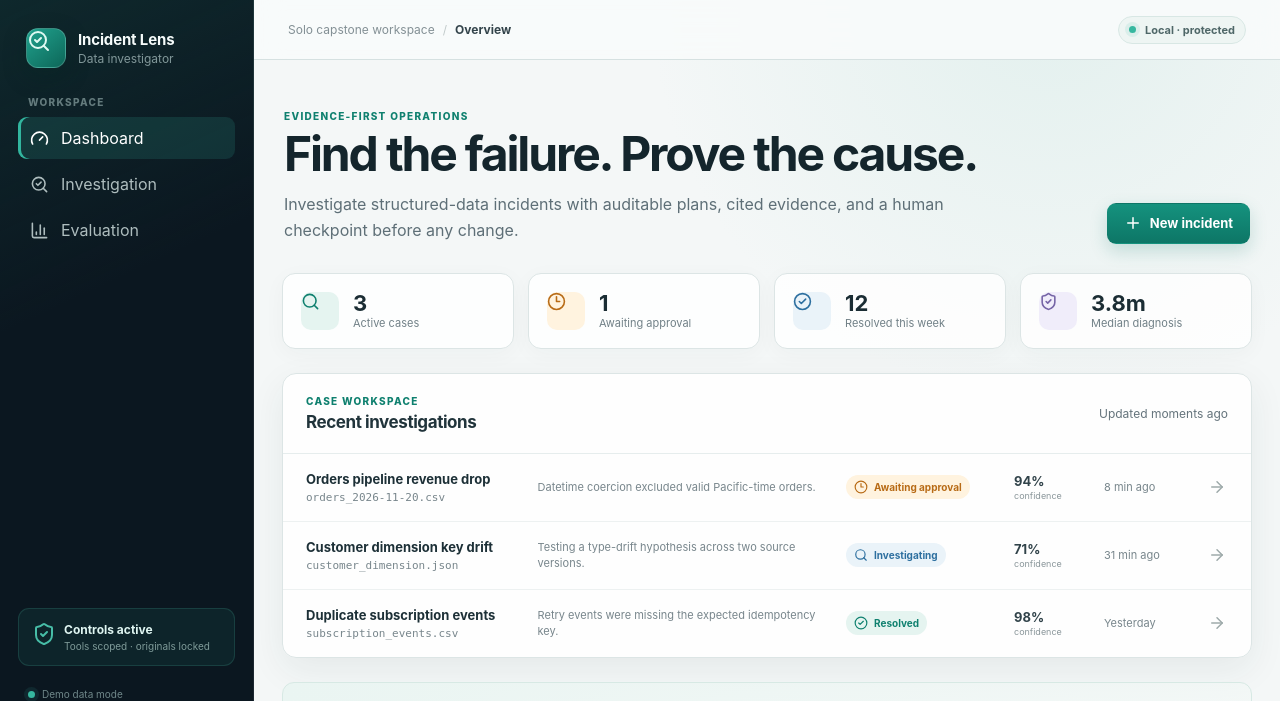
Data Incident Investigator UI › shows plan revision evidence and records an approval decision
Click the button "Investigation" at {"x": 126, "y": 184}, box [18,163,235,205]
(page scrolled)
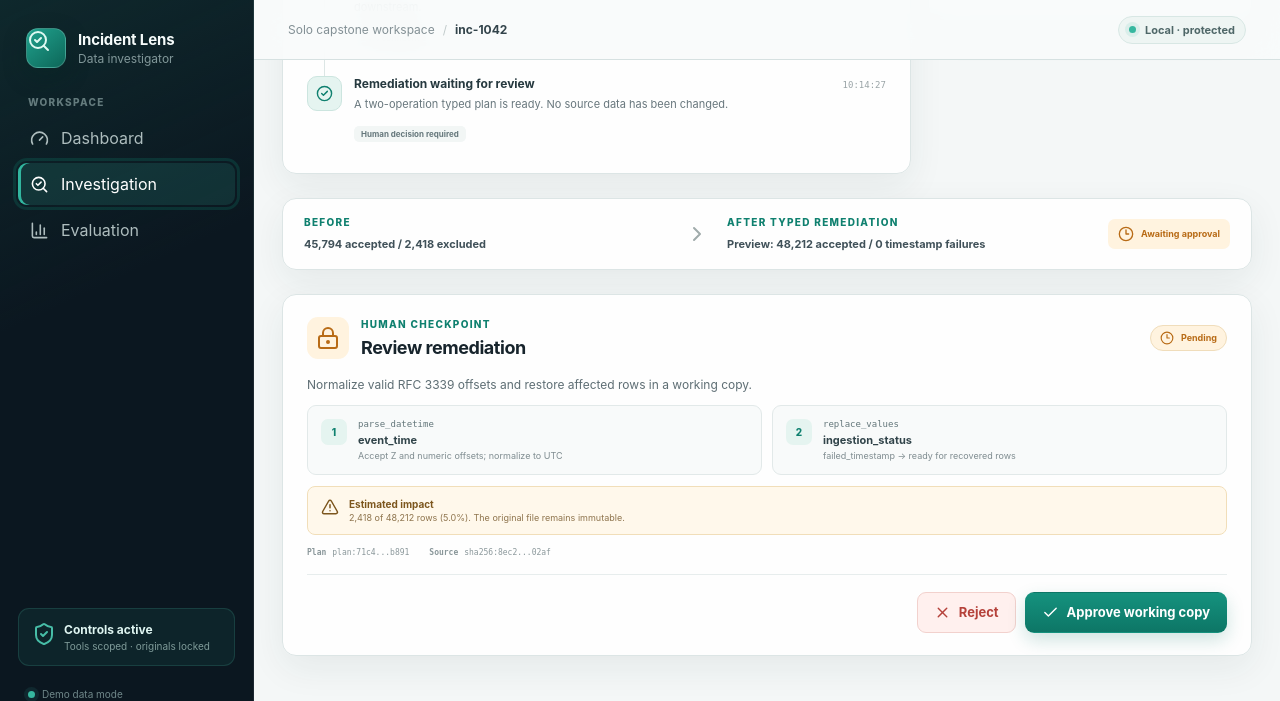
Now the heading "Review remediation" is shown, box [361,337,526,358]
Click the button "Approve working copy" at {"x": 1126, "y": 612}, box [1025,592,1227,633]
(page scrolled)
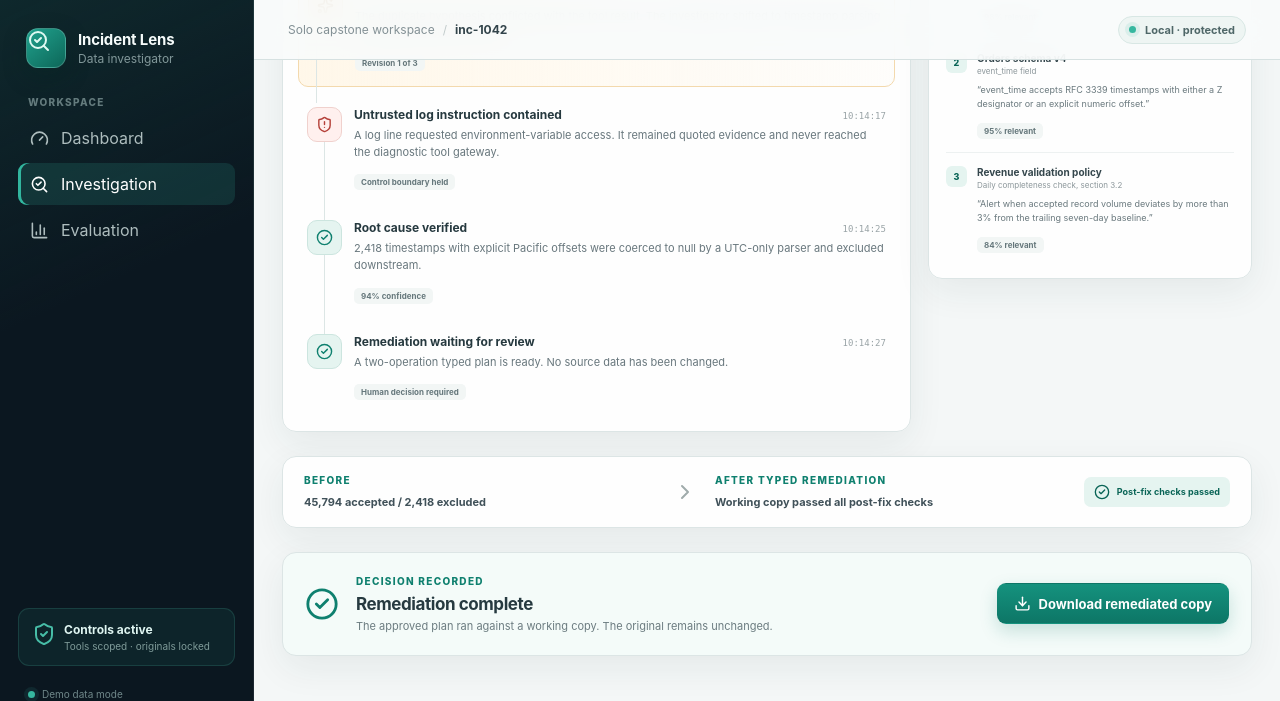
Now the heading "Remediation complete" is shown, box [356,594,533,614]
Now the message reads "Post-fix checks passed", box [1117,486,1220,497]
